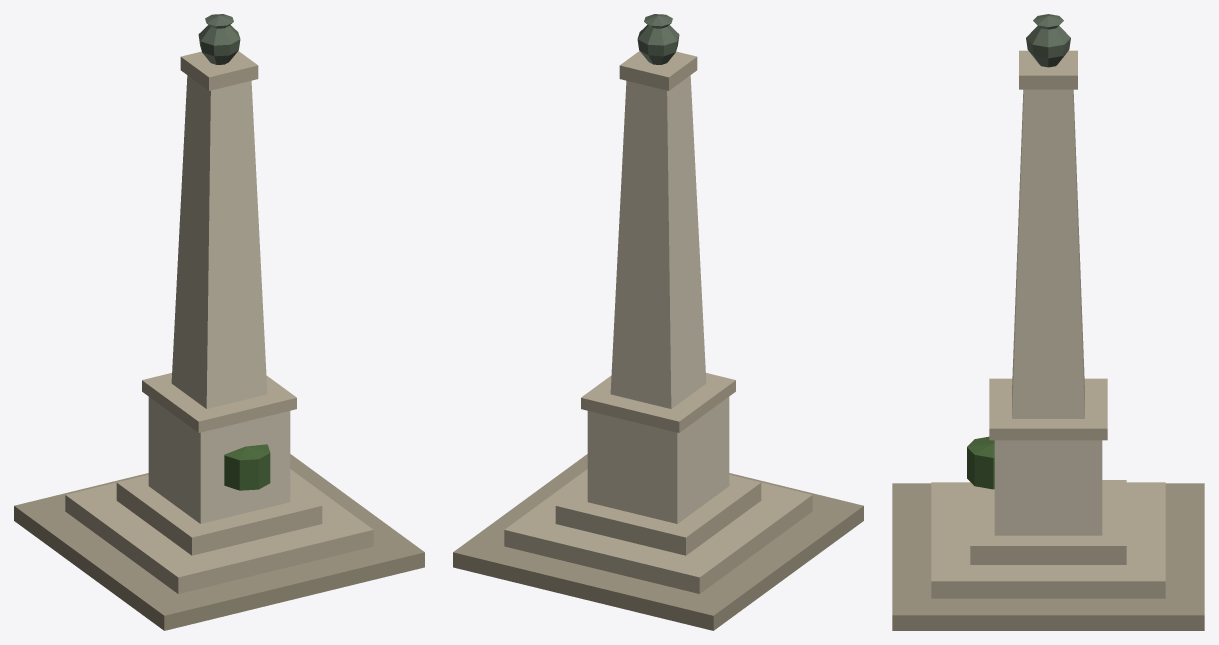
File: life_memorial.glb
3 views of the same model, side by side, from view 1: azimuth 30°, elevation 25°; view 2: azimuth 150°, elevation 25°; view 3: azimuth 270°, elevation 25° (orthographic). The views are drawn at different scales.
Parts seen in each view (by area): view 1: life_memorial; view 2: life_memorial; view 3: life_memorial.
Part boxes in pixels (left/top/right/bottom): life_memorial: left=14, top=14, right=424, bottom=630; life_memorial: left=453, top=14, right=863, bottom=630; life_memorial: left=892, top=14, right=1204, bottom=630.
Bounding box in the file's own units: 3.6 × 6.98 × 3.6.
